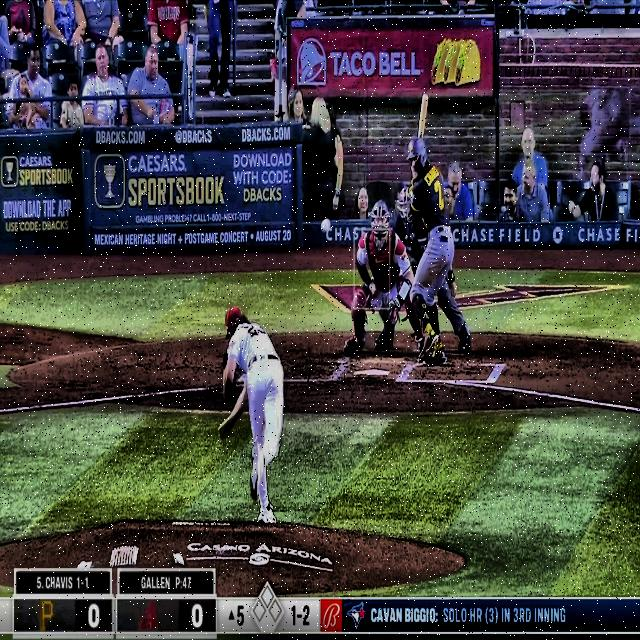baseball: (322, 219, 331, 233)
